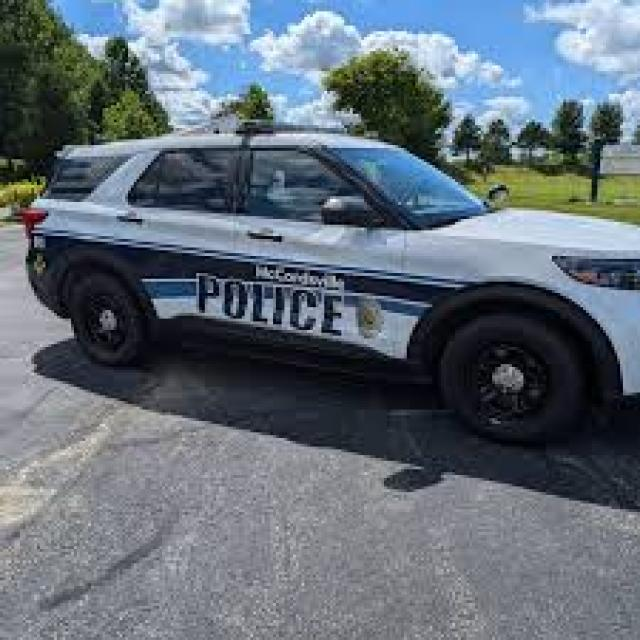cop: (31, 126, 640, 452)
